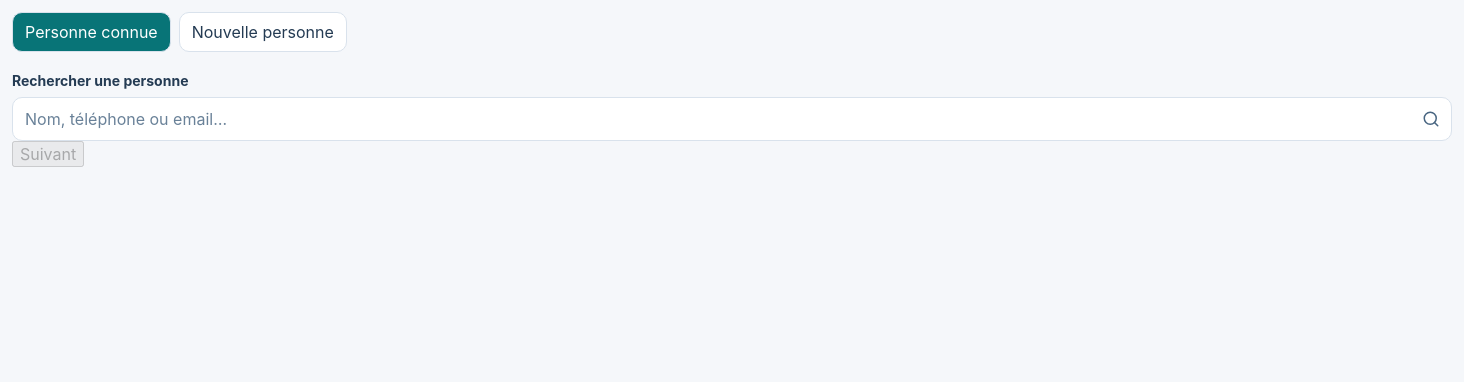
Test: enables the next action as soon as a new person is valid
This screenshot has width=1464, height=382.
Click the button "Nouvelle personne": click(263, 32) 179,12 -> 347,52
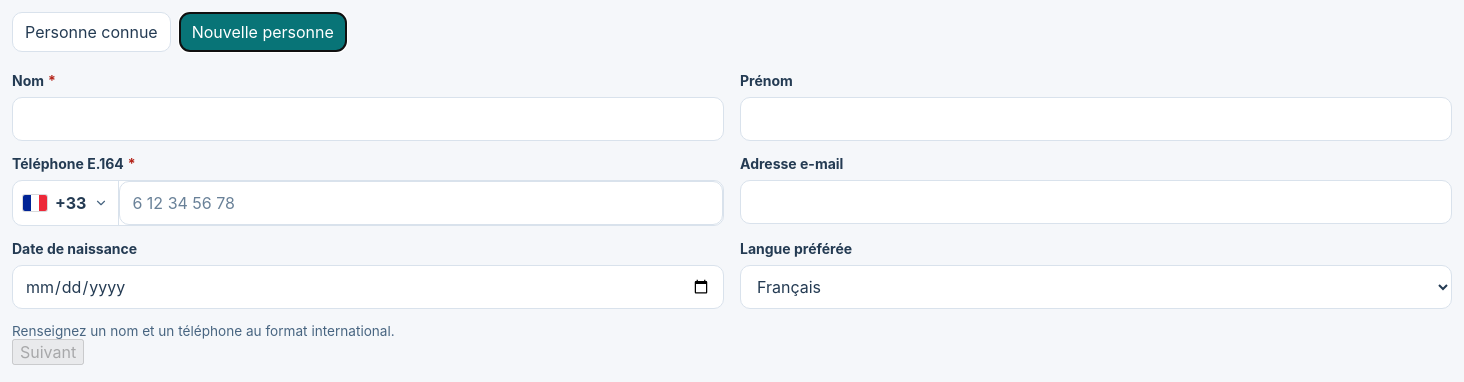
Now the field labelled "Adresse e-mail" is shown, box 740,180 -> 1452,224
Now the date field labelled "Date de naissance" is shown, box 12,265 -> 724,309
Now the dropdown labelled "Langue préférée" shows "Français", box 740,265 -> 1452,309
In the field labelled "Nom *": (368, 119) 12,97 -> 724,141, type "Martin"
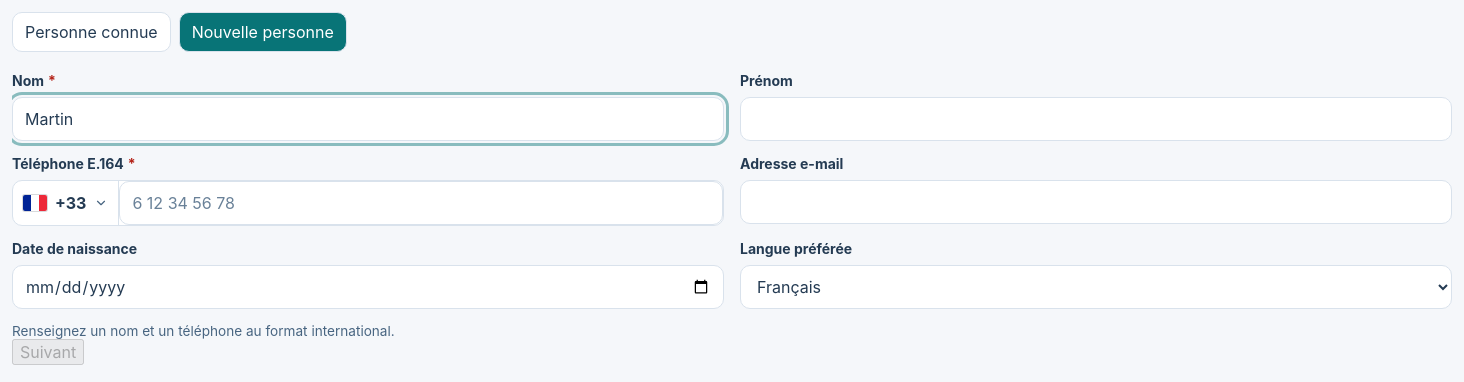
Expected: the button "Suivant" is disabled, 12,339 -> 84,365
In the field named "téléphone": (421, 203) 119,181 -> 723,225, type "06 12 34 56 78"
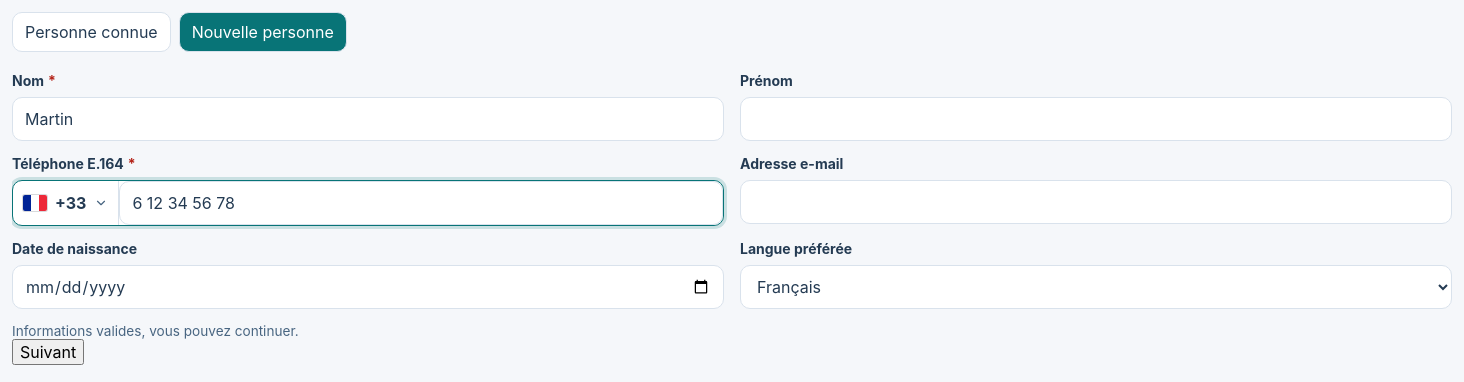
Now the button "Suivant" is enabled, box 12,339 -> 84,365
